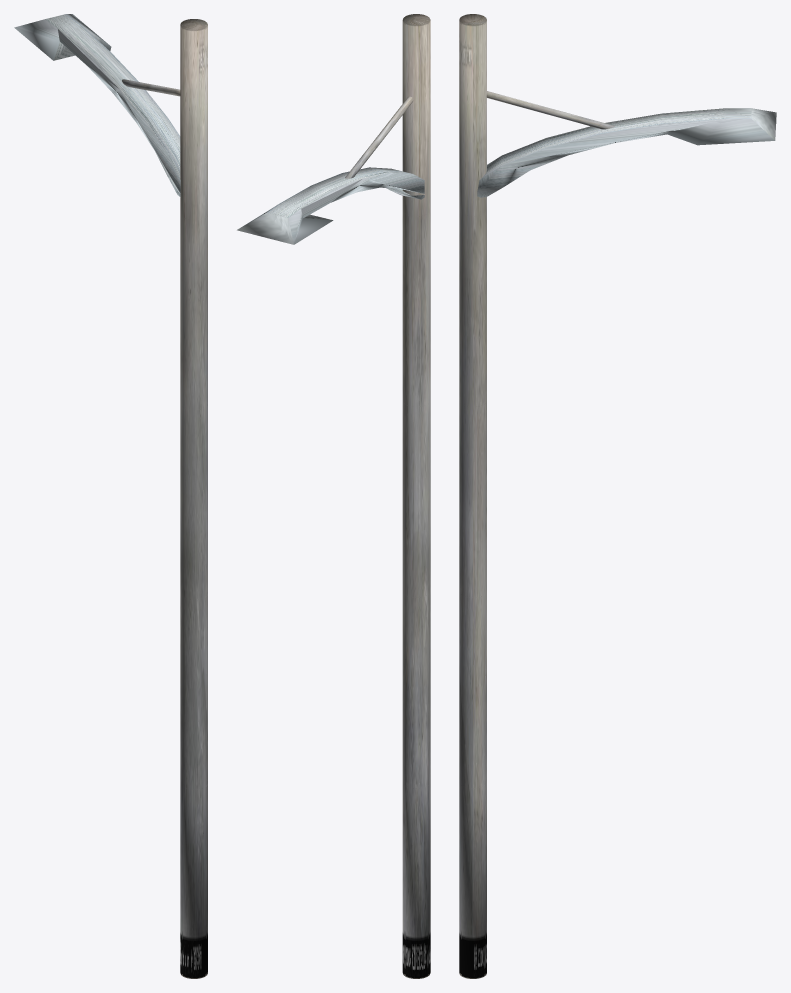
File: lamp.obj
The picture shows the model from 3 angles, left to right: view 1: azimuth 30°, elevation 25°; view 2: azimuth 150°, elevation 25°; view 3: azimuth 270°, elevation 25°; orthographic projection.
Parts seen in each view (by area): view 1: lamp:Cylinder004; view 2: lamp:Cylinder004; view 3: lamp:Cylinder004.
Part boxes in pixels (box(x1,y1,x2,y2)): lamp:Cylinder004: box(14, 14, 207, 978); lamp:Cylinder004: box(237, 14, 430, 978); lamp:Cylinder004: box(459, 14, 776, 978).
Bounding box in the file's own units: 0.6999 × 10.94 × 3.3.
3 materials, 3 textured.
